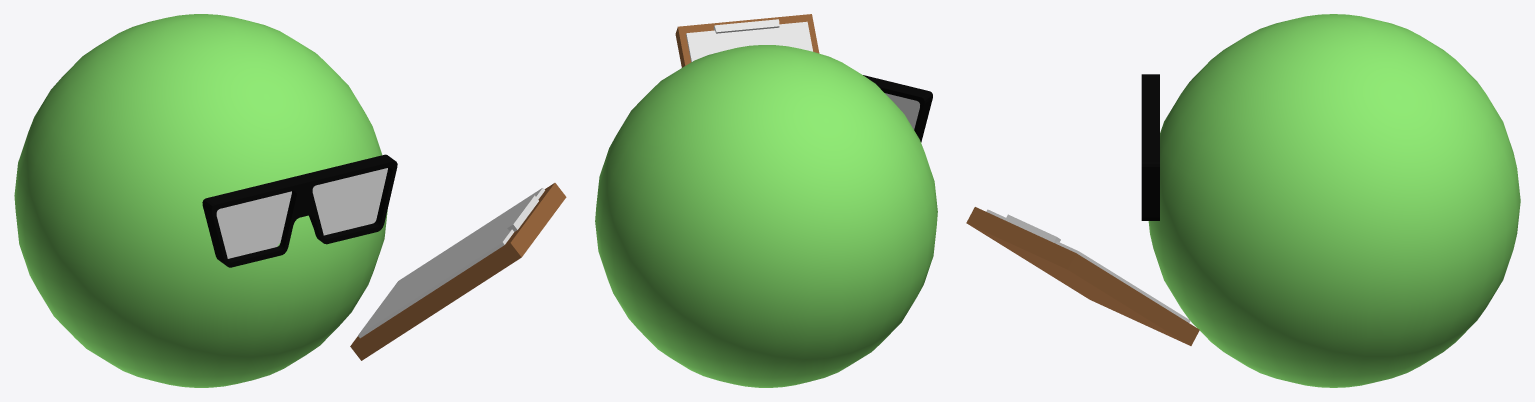
The model's file is science bro.fbx.
3 renders of one model, left to right at view 1: azimuth 30°, elevation 25°; view 2: azimuth 150°, elevation 25°; view 3: azimuth 270°, elevation 25°, orthographic. The views are drawn at different scales.
Visible parts, largest first — view 1: Scientist, Glasses, Clipboard; view 2: Scientist, Clipboard, Glasses; view 3: Scientist, Clipboard, Glasses.
Boxes of the visible parts, x1=… form: Scientist: x1=14, y1=14, x2=387, y2=387; Glasses: x1=202, y1=154, x2=397, y2=267; Clipboard: x1=350, y1=183, x2=566, y2=360; Scientist: x1=595, y1=45, x2=937, y2=387; Clipboard: x1=675, y1=14, x2=819, y2=67; Glasses: x1=863, y1=75, x2=932, y2=142; Scientist: x1=1148, y1=14, x2=1520, y2=387; Clipboard: x1=966, y1=207, x2=1199, y2=345; Glasses: x1=1141, y1=74, x2=1159, y2=220.
Size of the model in its own units: 122 by 100 by 148.
